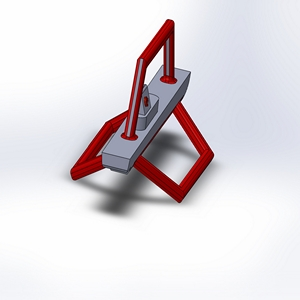submarine: (40, 4, 239, 221)
